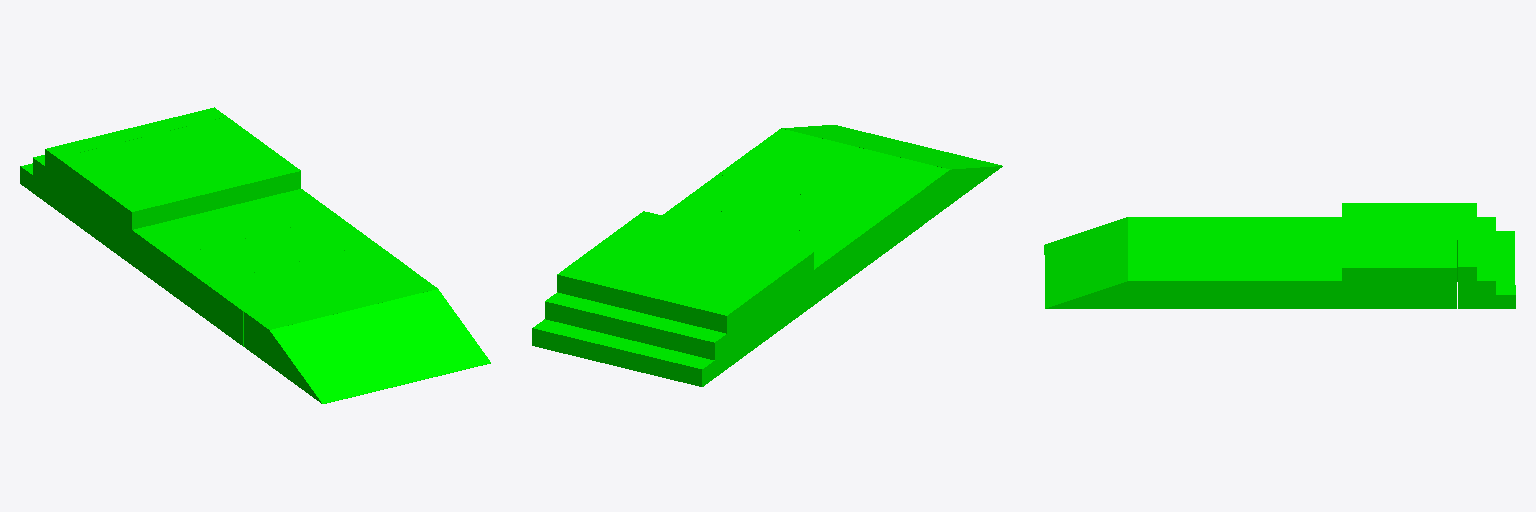
robot.urdf — slope_stair:
<?xml version="0.0" ?>
<robot name="slope_stair">
    <link cancave='yes' name="slope_stair_link">
        <contact>
            <lateral_friction value="0.9"/>
        </contact>

        <inertial>
            <origin xyz="0 0 0" rpy="0 0 0"/>
            <mass value="0.0"/>
            <inertia ixx="0"  ixy="0"  ixz="0" iyy="0" iyz="0" izz="0" />
        </inertial>

        <visual>
            <origin xyz="0 0 0" rpy="0 0 -1.57" />
            <geometry>
                <mesh filename="package://scene/meshes/stair_slope.stl" scale="0.75 2.0 1.0"/>
            </geometry>
            <material name="Cyan">
                <color rgba="0.0 1.0 0.0 1.0"/>
            </material>
        </visual>

        <collision concave='yes'>
            <origin xyz="0 0 0" rpy="0 0 -1.57"/>
            <geometry>
                <mesh filename="package://scene/meshes/stair_slope.stl" scale="0.75 2.0 1.0"/>
            </geometry>
        </collision>
    </link>
</robot>

--- Render facts (derived) ---
Views: 3 orthographic renders of the robot side by side, from view 1: azimuth 30°, elevation 25°; view 2: azimuth 150°, elevation 25°; view 3: azimuth 270°, elevation 25°.
Model slope_stair with 1 links and 0 joints (none), rooted at slope_stair_link, posed every joint at zero.
Links seen in each view (by area): view 1: slope_stair_link; view 2: slope_stair_link; view 3: slope_stair_link.
Link boxes in pixels (bbox=[...]): slope_stair_link: bbox=[20, 107, 490, 403]; slope_stair_link: bbox=[532, 125, 1002, 386]; slope_stair_link: bbox=[1044, 203, 1515, 308].
Size in the robot's own frame: 2.01 by 6.16 by 0.6007 metres.
Meshes: 1 distinct files referenced, 1 mesh visuals loaded (1 binary STL).